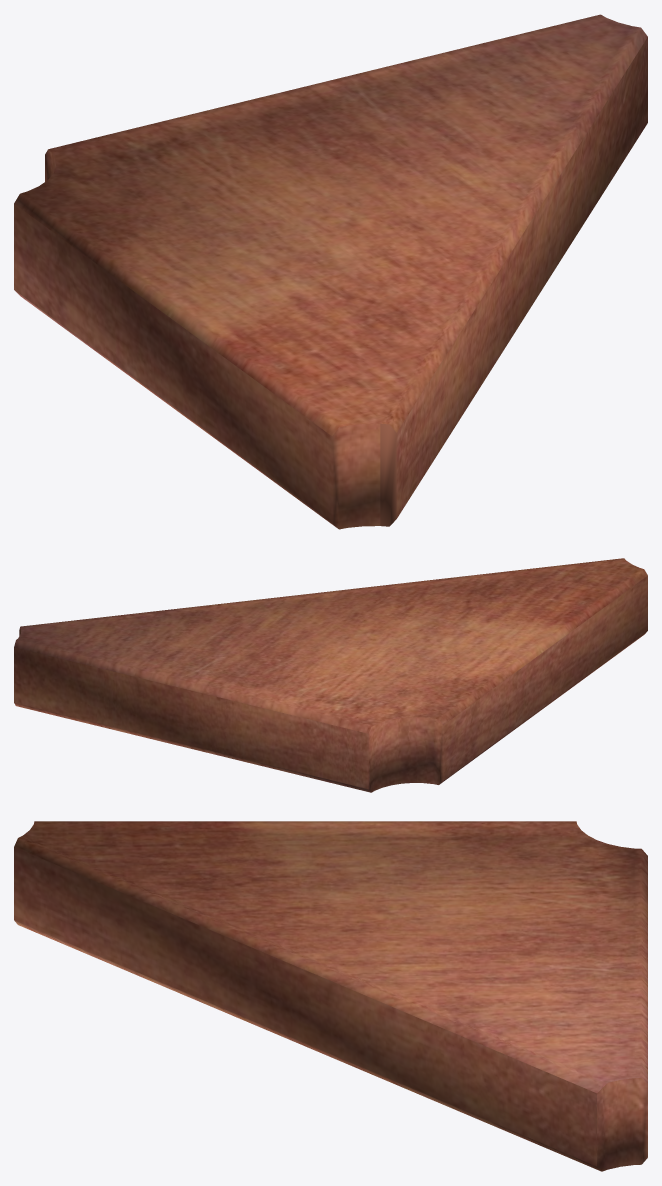
The model's file is board-checkers-triangle.gltf.
3 renders of one model, top to bottom at view 1: azimuth 30°, elevation 25°; view 2: azimuth 150°, elevation 25°; view 3: azimuth 270°, elevation 25°, orthographic. The views are drawn at different scales.
Bounding box in the file's own units: 1.85 × 0.28 × 1.85.
Materials: 1 (1 with a texture image).
